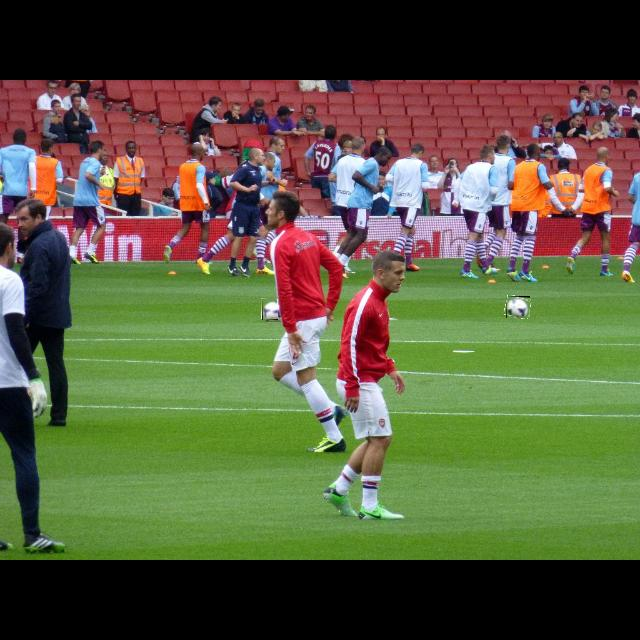Football: (506, 296, 530, 318), (262, 298, 278, 320)
